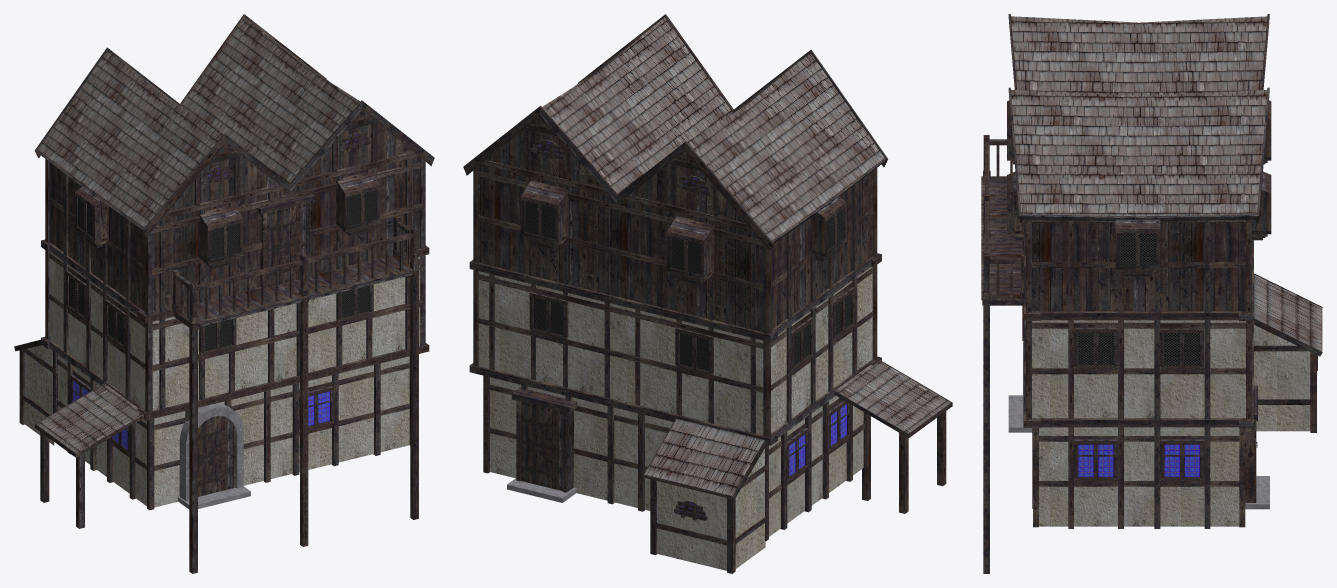
File: house39.dae
3 views of the same model, side by side, from view 1: azimuth 30°, elevation 25°; view 2: azimuth 150°, elevation 25°; view 3: azimuth 270°, elevation 25° (orthographic). The views are drawn at different scales.
Visible parts, largest first — view 1: House2_Roof, House2_Level3, House2_Level2, House2_Level1, House2_Level3_Beams, House2_Level2_Beams, House2_Level1_Beams, Balcony4Stilts, Balcony4, House2_Roof_Frame, Roof2Outer, Balcony4Handles (+24 smaller); view 2: House2_Roof, House2_Level3, House2_Level2, House2_Level1, House2_Level3_Beams, House2_Level2_Beams, House2_Level1_Beams, BuildingExtensions4, BuildingExtensions4Roof, House2_Roof_Frame, Roof2Outer, House2_Level2_SeperatorBeams (+18 smaller); view 3: House2_Roof, House2_Level3, House2_Level2, House2_Level1, House2_Level2_Beams, House2_Level1_Beams, BuildingExtensions4, House2_Level3_Beams, Balcony4, BuildingExtensions4Roof, House2_Level1_SeperatorBeams, House2_Roof_Frame (+20 smaller).
Boxes of the visible parts, x1,y1,x2,y2 form: House2_Roof: [38, 17, 360, 227]; House2_Level3: [49, 110, 420, 313]; House2_Level2: [49, 251, 420, 410]; House2_Level1: [58, 355, 409, 507]; House2_Level3_Beams: [45, 117, 425, 315]; House2_Level2_Beams: [45, 250, 425, 412]; House2_Level1_Beams: [53, 351, 410, 510]; Balcony4Stilts: [189, 275, 418, 573]; Balcony4: [172, 215, 420, 325]; House2_Roof_Frame: [34, 14, 434, 236]; Roof2Outer: [36, 384, 142, 453]; Balcony4Handles: [176, 221, 412, 318]; House2_Roof: [542, 17, 884, 240]; House2_Level3: [478, 116, 872, 331]; House2_Level2: [478, 267, 872, 435]; House2_Level1: [490, 377, 863, 536]; House2_Level3_Beams: [473, 124, 877, 333]; House2_Level2_Beams: [473, 265, 877, 437]; House2_Level1_Beams: [483, 375, 868, 541]; BuildingExtensions4: [657, 448, 765, 570]; BuildingExtensions4Roof: [645, 419, 764, 495]; House2_Roof_Frame: [463, 14, 887, 250]; Roof2Outer: [835, 361, 950, 433]; House2_Level2_SeperatorBeams: [469, 253, 881, 342]; House2_Roof: [1011, 16, 1267, 216]; House2_Level3: [1032, 222, 1245, 311]; House2_Level2: [1032, 320, 1245, 418]; House2_Level1: [1039, 427, 1239, 526]; House2_Level2_Beams: [1024, 320, 1251, 419]; House2_Level1_Beams: [1032, 427, 1245, 528]; BuildingExtensions4: [1254, 325, 1310, 431]; House2_Level3_Beams: [1024, 219, 1251, 312]; Balcony4: [981, 135, 1024, 300]; BuildingExtensions4Roof: [1254, 274, 1321, 351]; House2_Level1_SeperatorBeams: [1023, 321, 1253, 427]; House2_Roof_Frame: [1008, 14, 1269, 222].
Bounding box in the file's own units: 10.29 × 7.65 × 11.43.
Materials: 27 (27 with a texture image).
